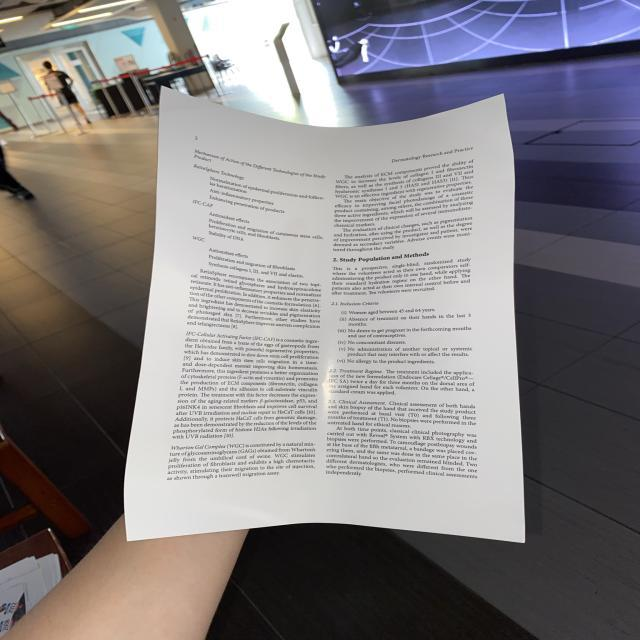document: (125, 89, 525, 542)
